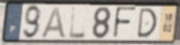8: (92, 6, 112, 40)
9: (22, 4, 43, 41)
A: (40, 6, 68, 40)
D: (136, 7, 159, 39)
F: (112, 6, 138, 40)
L: (68, 6, 87, 40)
